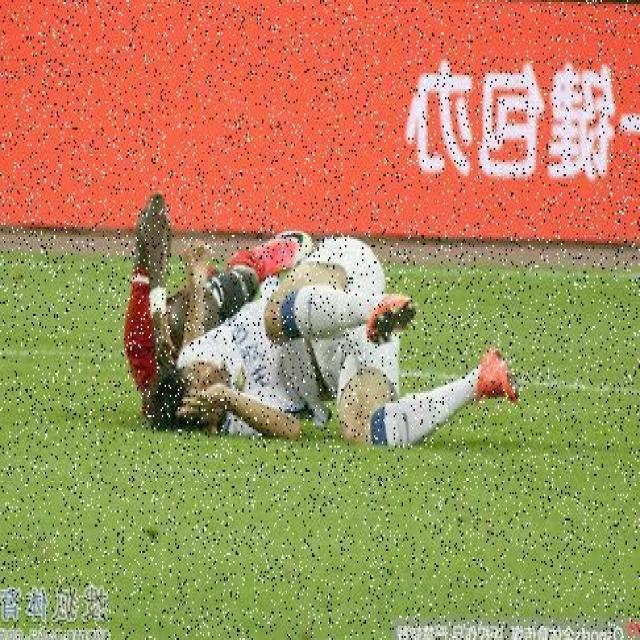fall: (173, 231, 502, 439)
